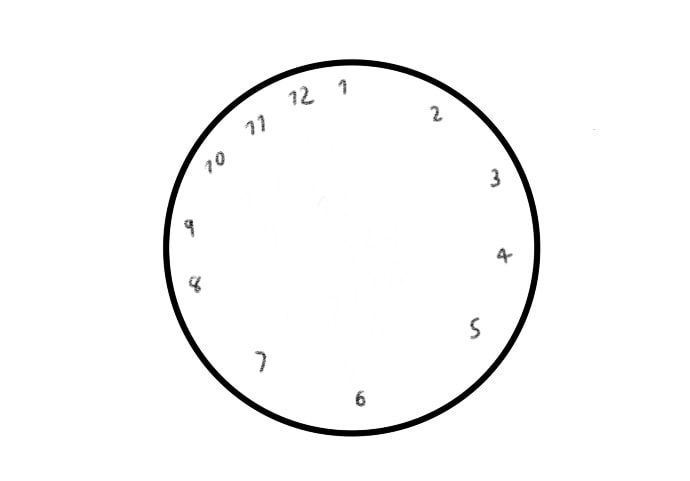eight: (186, 272, 204, 297)
eleven: (245, 112, 266, 136)
five: (470, 318, 481, 341)
four: (494, 242, 512, 267)
nine: (182, 218, 199, 238)
one: (334, 73, 352, 98)
seven: (251, 349, 267, 376)
six: (353, 386, 372, 409)
ten: (203, 152, 227, 174)
three: (489, 162, 503, 192)
twelve: (287, 86, 314, 107)
two: (428, 101, 450, 128)
